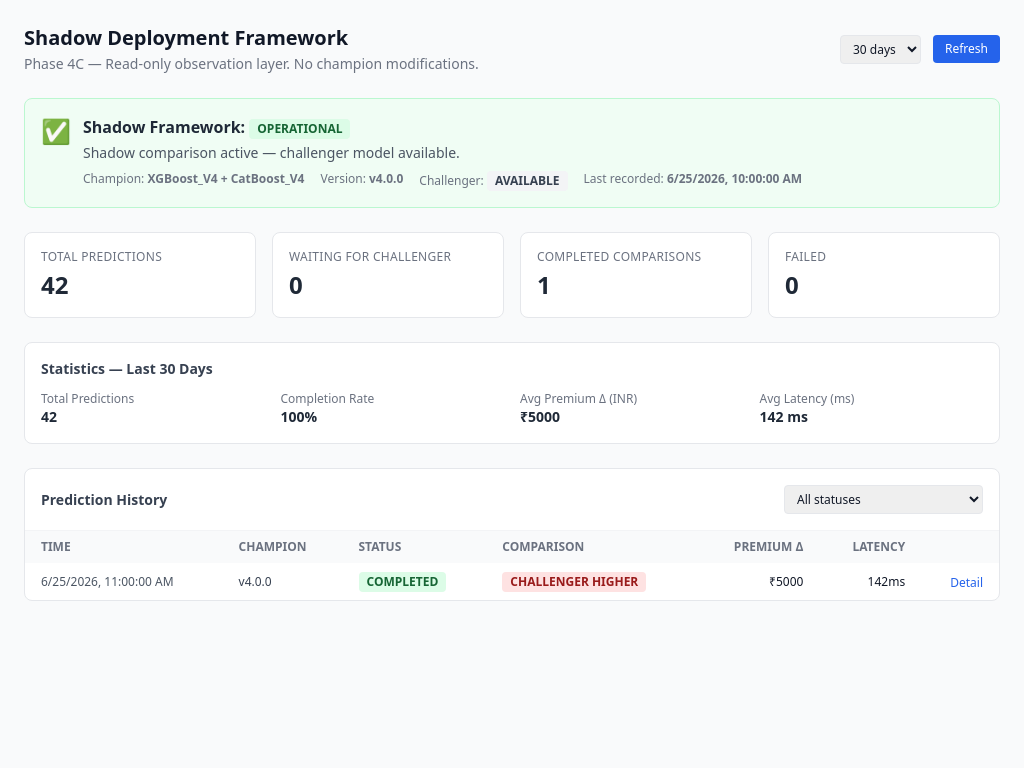
Test case: ShadowPanel — with challenger comparison › detail drawer shows both champion and challenger JSON
Click the row with test id "shadow-history-row" at x=512, y=582, box x1=25 y1=563 x2=999 y2=600
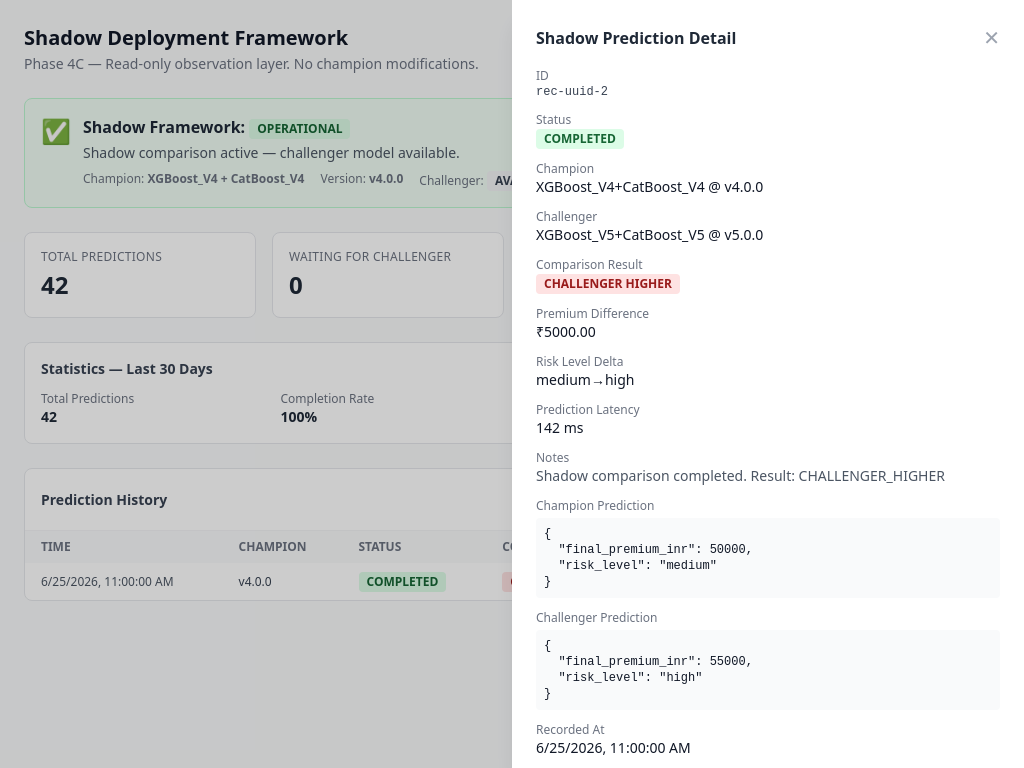
Now the text "{ \"final_premium_inr\": 50000, \"risk_level\": \"medium\" }" is shown, box x1=536 y1=518 x2=1000 y2=598
Now the text "{ \"final_premium_inr\": 55000, \"risk_level\": \"high\" }" is shown, box x1=536 y1=630 x2=1000 y2=710
